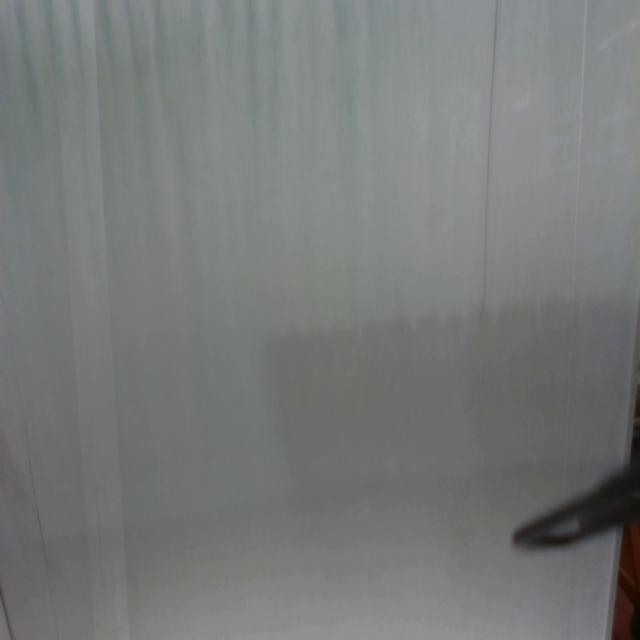crease: (63, 0, 122, 639), (562, 0, 590, 492), (26, 422, 59, 636), (479, 0, 498, 328), (1, 583, 16, 640)
